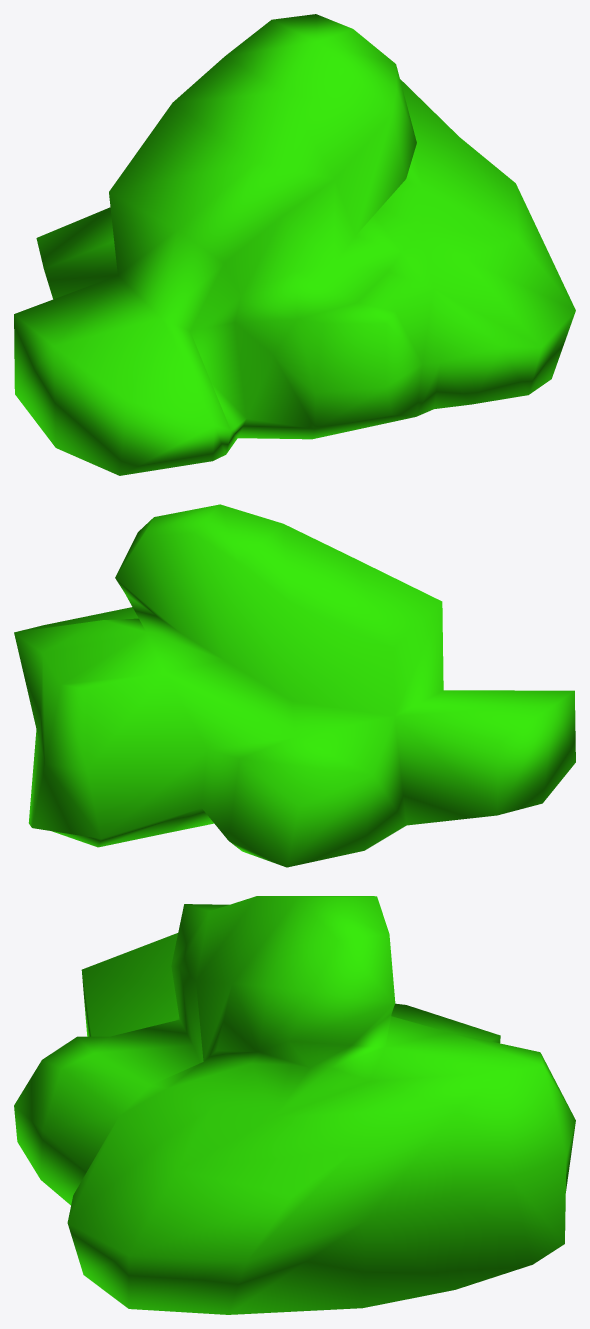
File: Floor_Rock_Pile_01_Collider.fbx
3 views of the same model, one above another, from view 1: azimuth 30°, elevation 25°; view 2: azimuth 150°, elevation 25°; view 3: azimuth 270°, elevation 25° (orthographic). The views are drawn at different scales.
Visible parts, largest first — view 1: Floor_Rock_Pile_01_Collider; view 2: Floor_Rock_Pile_01_Collider; view 3: Floor_Rock_Pile_01_Collider.
Part boxes in pixels (box(x1,y1,x2,y2)): Floor_Rock_Pile_01_Collider: box(14, 14, 575, 475); Floor_Rock_Pile_01_Collider: box(14, 504, 575, 867); Floor_Rock_Pile_01_Collider: box(14, 896, 575, 1314).
Bounding box in the file's own units: 242 × 149 × 218.
